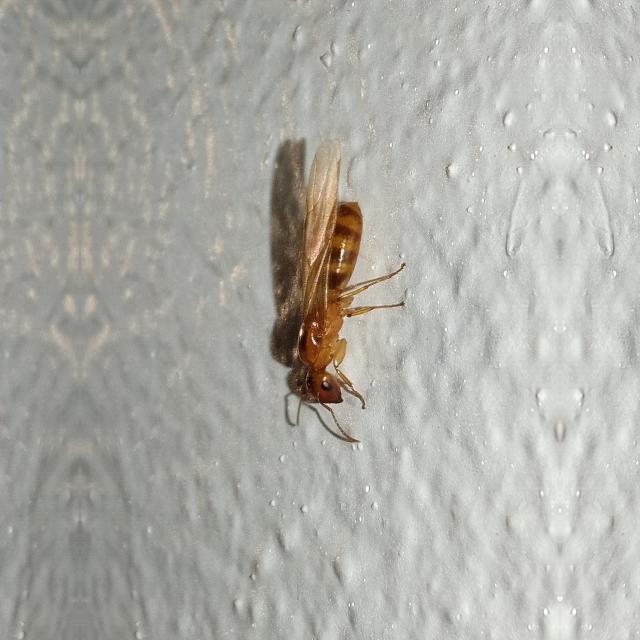Colobopsis: (262, 154, 394, 436)
